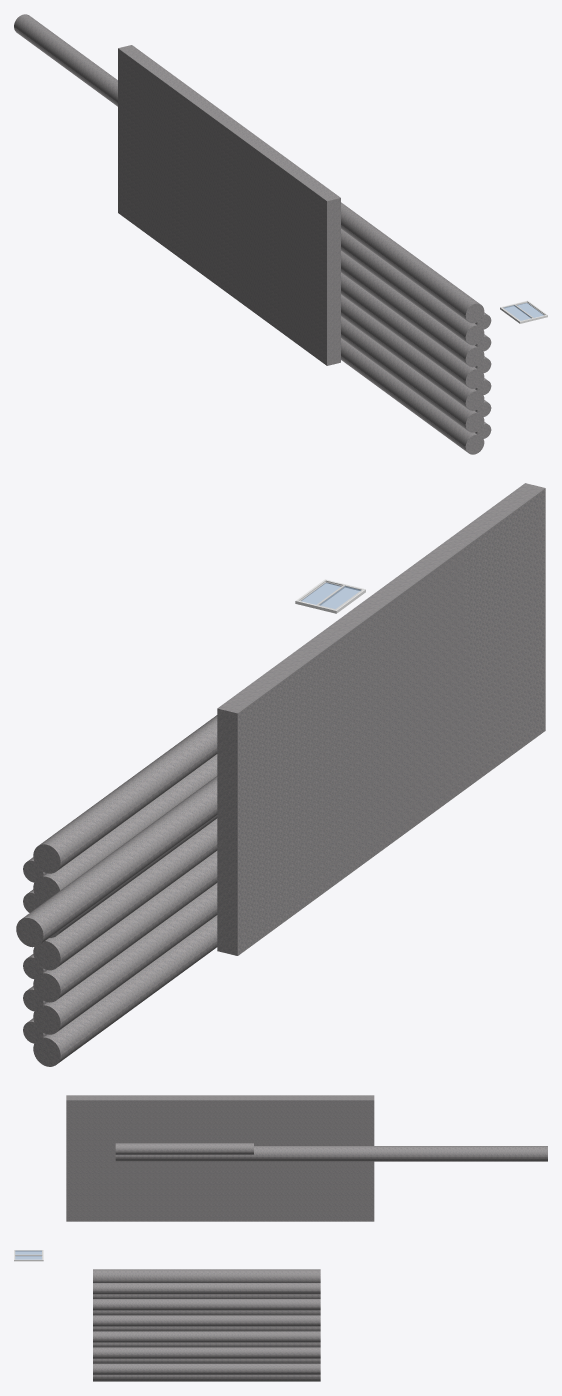
3 renders of one model, top to bottom at view 1: azimuth 30°, elevation 25°; view 2: azimuth 150°, elevation 25°; view 3: azimuth 270°, elevation 25°, orthographic. The views are drawn at different scales.
Visible parts, largest first — view 1: 0_3_1_2_2_0; view 2: 0_3_1_2_2_0; view 3: 0_3_1_2_2_0.
Boxes of the visible parts, left/top/right/bottom form: 0_3_1_2_2_0: left=14, top=14, right=547, bottom=454; 0_3_1_2_2_0: left=16, top=483, right=545, bottom=1066; 0_3_1_2_2_0: left=14, top=1095, right=547, bottom=1381.
Bounding box in the file's own units: 7.98 × 12.63 × 27.05.
19 materials, 16 textured.
